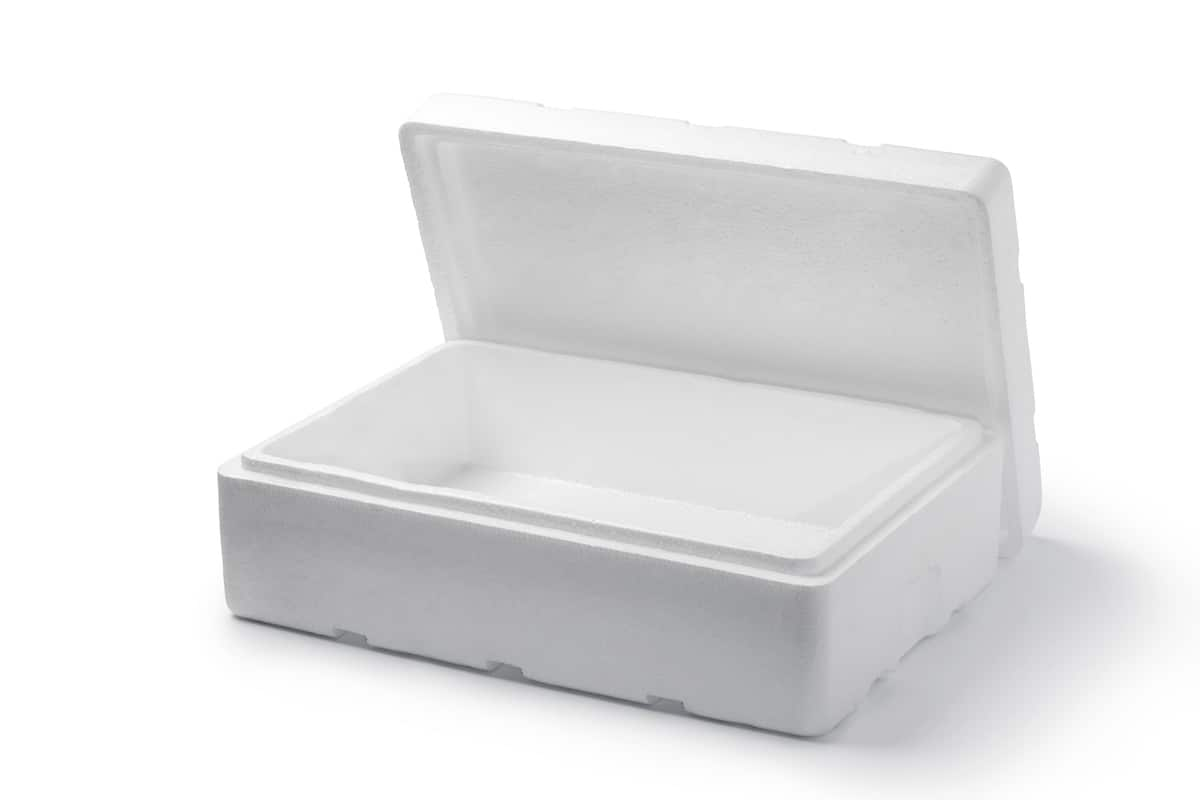泡沫箱: (217, 100, 1040, 736)
